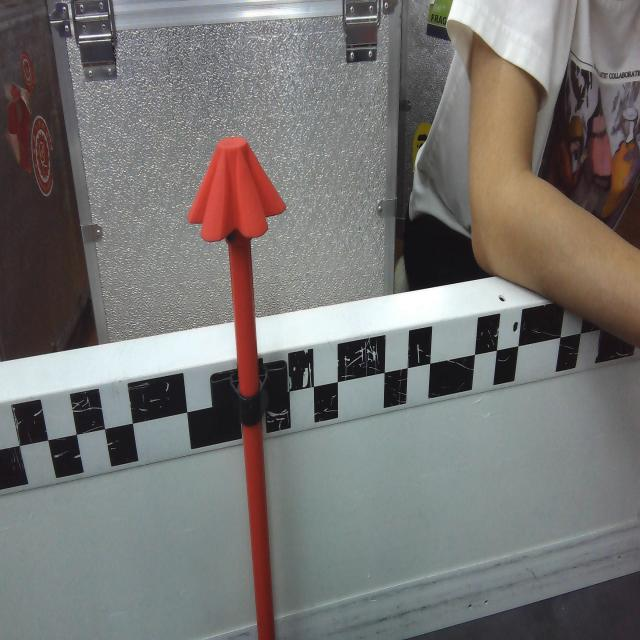zred-Stake-Head: (186, 136, 286, 242)
